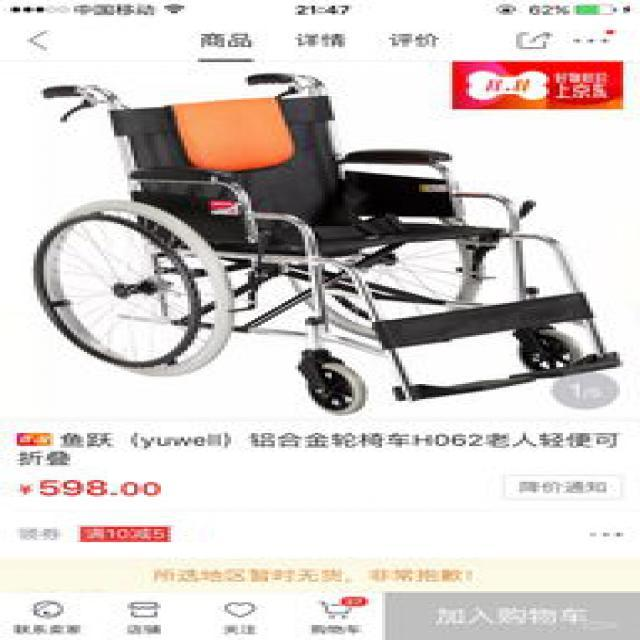wheelchair: (24, 66, 636, 418)
